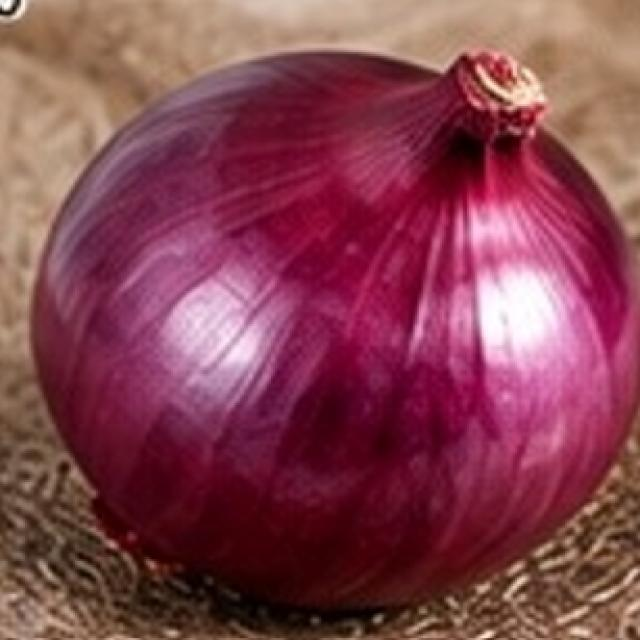healthy: (22, 49, 640, 620), (31, 52, 638, 607), (33, 52, 638, 607), (318, 199, 320, 203)
